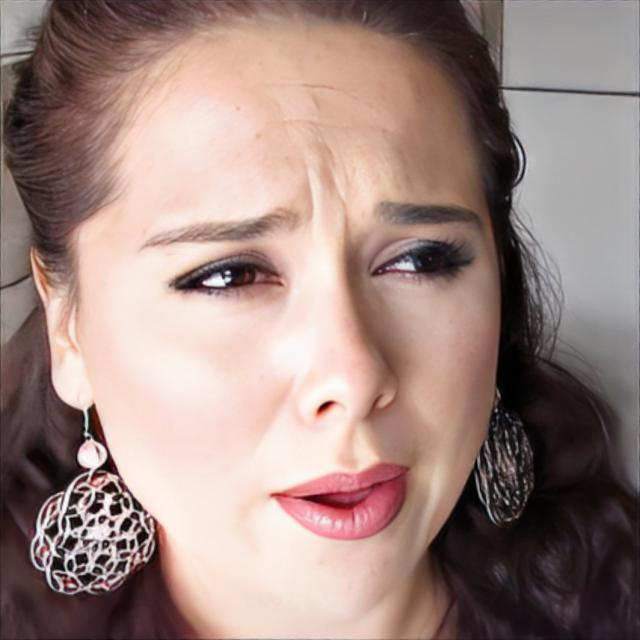sad: (90, 32, 506, 624)
